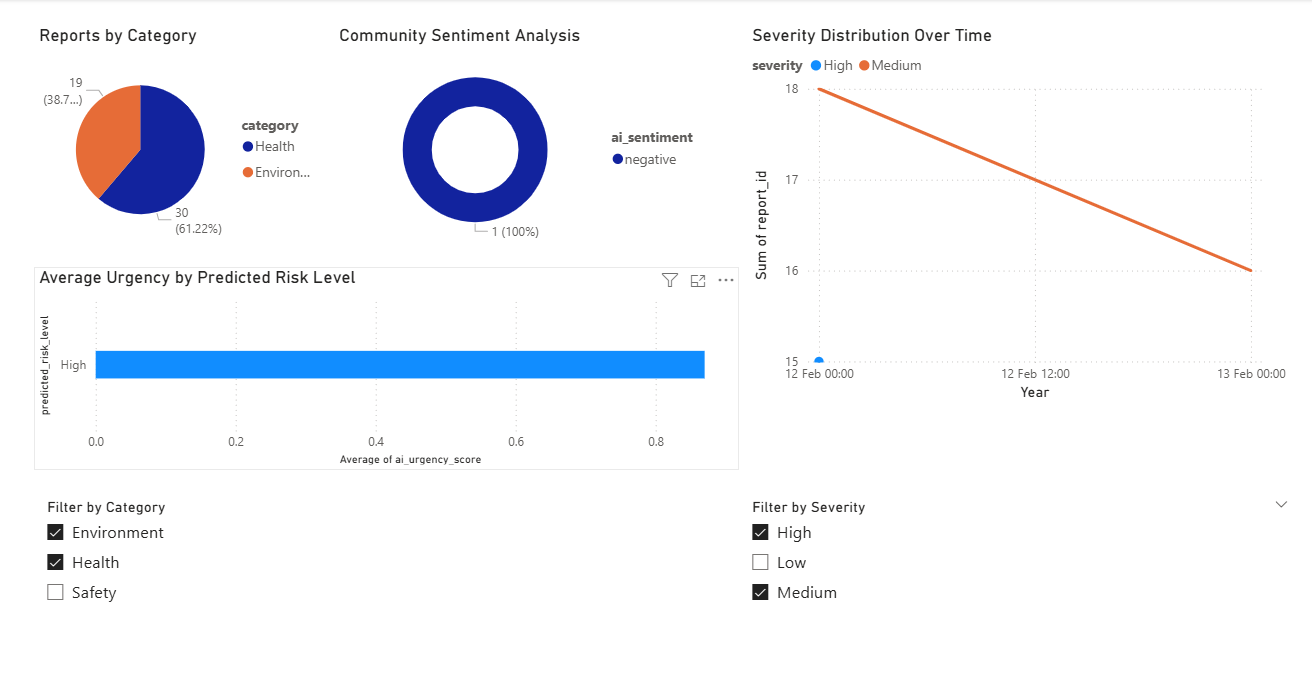

The dashboard page shown, as its layout file describes it:
{"tool":"powerbi","page":{"name":"Page 1","canvas":[1280,720],"ordinal":0},"visuals":[{"type":"pieChart","title":"Reports by Category","fields":{"Y":["Sum(CommunityReports.report_id)"],"Category":["CommunityReports.category"]},"box":[33.1,25.3,291.8,223.7],"z":0},{"type":"lineChart","title":"Severity Distribution Over Time","fields":{"Series":["CommunityReports.severity"],"Y":["Sum(CommunityReports.report_id)"],"Category":["CommunityReports.created_at.Variation.Date Hierarchy.Year","CommunityReports.created_at.Variation.Date Hierarchy.Quarter","CommunityReports.created_at.Variation.Date Hierarchy.Month","CommunityReports.created_at.Variation.Date Hierarchy.Day"]},"box":[718.8,25.3,546.6,370.6],"z":1},{"type":"clusteredBarChart","title":"Average Urgency by Predicted Risk Level","fields":{"Category":["CommunityReports.predicted_risk_level"],"Y":["Avg(CommunityReports.ai_urgency_score)"]},"box":[33.1,260.7,685.7,197.4],"z":2},{"type":"donutChart","title":"Community Sentiment Analysis","fields":{"Category":["CommunityReports.ai_sentiment"],"Y":["Sum(CommunityReports.report_id)"]},"box":[324.9,25.3,371.6,223.7],"z":3},{"type":"slicer","fields":{"Values":["CommunityReports.category"]},"box":[33,480.5,686,197],"z":4},{"type":"slicer","fields":{"Values":["CommunityReports.severity"]},"box":[718.8,480.5,546.6,197.4],"z":5}]}

Visuals, with their boxes on the page's 1280x720 design canvas (x1, y1, x2, y2). These are canvas units, not pixel positions in the 1312x688 screenshot, which may show the page scaled, cropped or inside an application window:
"Reports by Category" pieChart: [left=33, top=25, right=325, bottom=249]
"Severity Distribution Over Time" lineChart: [left=719, top=25, right=1265, bottom=396]
"Average Urgency by Predicted Risk Level" clusteredBarChart: [left=33, top=261, right=719, bottom=458]
"Community Sentiment Analysis" donutChart: [left=325, top=25, right=696, bottom=249]
slicer - CommunityReports.category: [left=33, top=480, right=719, bottom=678]
slicer - CommunityReports.severity: [left=719, top=480, right=1265, bottom=678]
